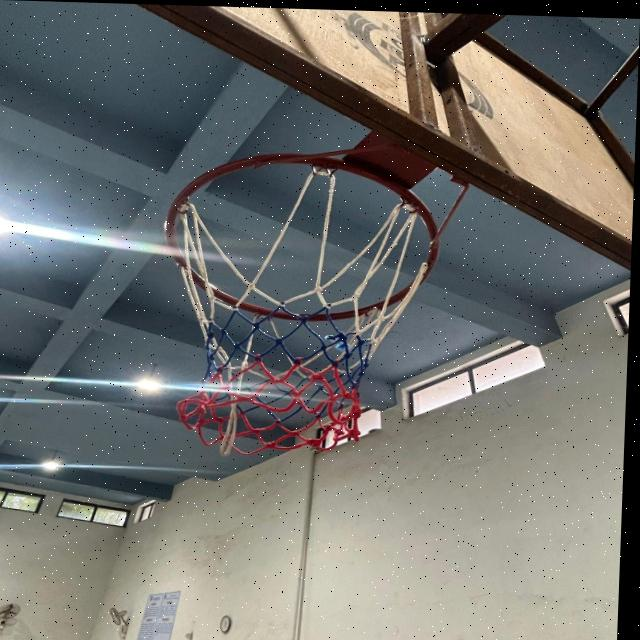hoop: (148, 161, 417, 460)
